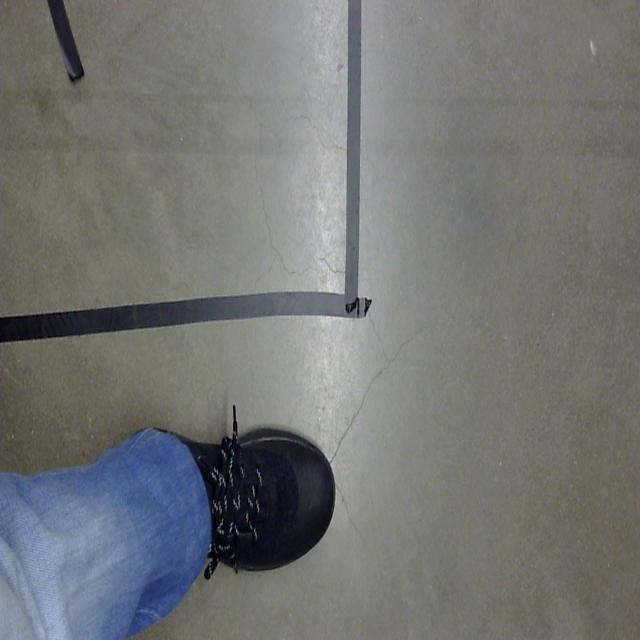tape: (0, 0, 407, 365), (36, 0, 100, 114)
